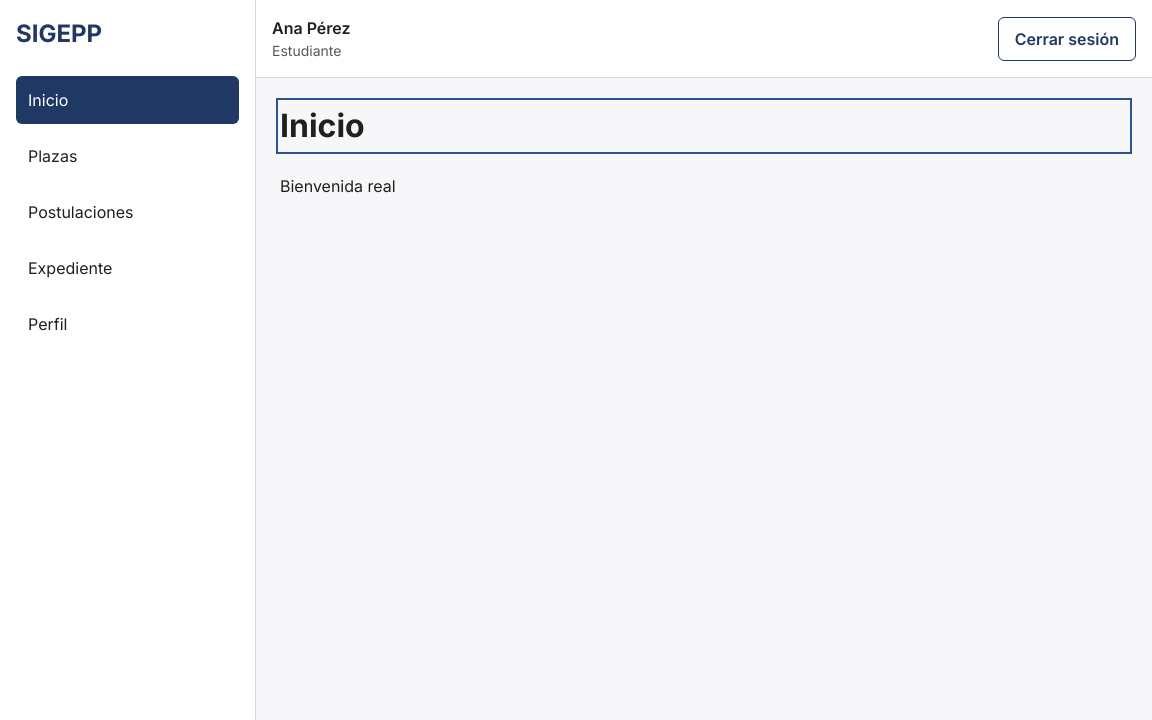
Scenario: canonical logout clears identity/cache immediately and preserves remote failure for public UI
expect the navigation bar named "Navegación principal" is shown: met, box [16,76,239,348]
Click the button "Cerrar sesión" at [1067, 38], box [998,16,1136,60]
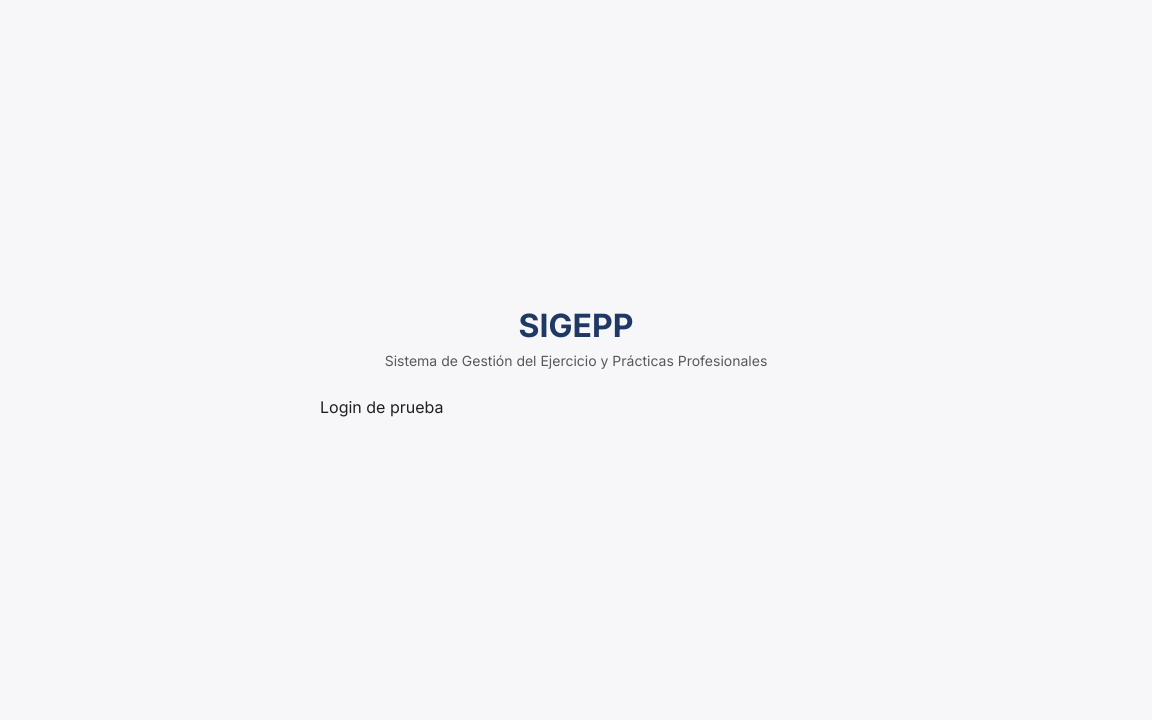
expect the heading "Login de prueba" is shown: met, box [320,396,444,416]
